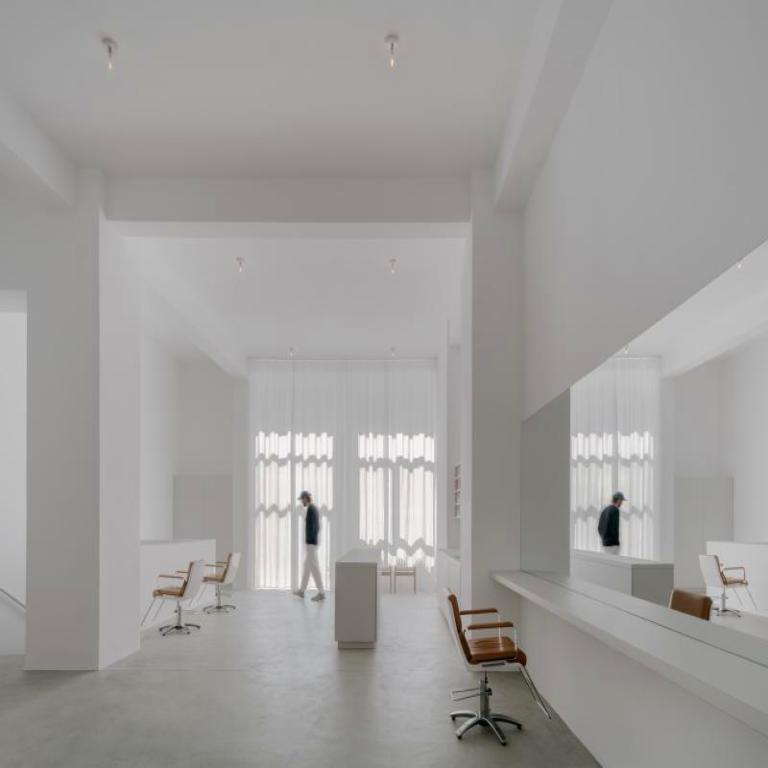white-walls: (482, 29, 745, 496)
